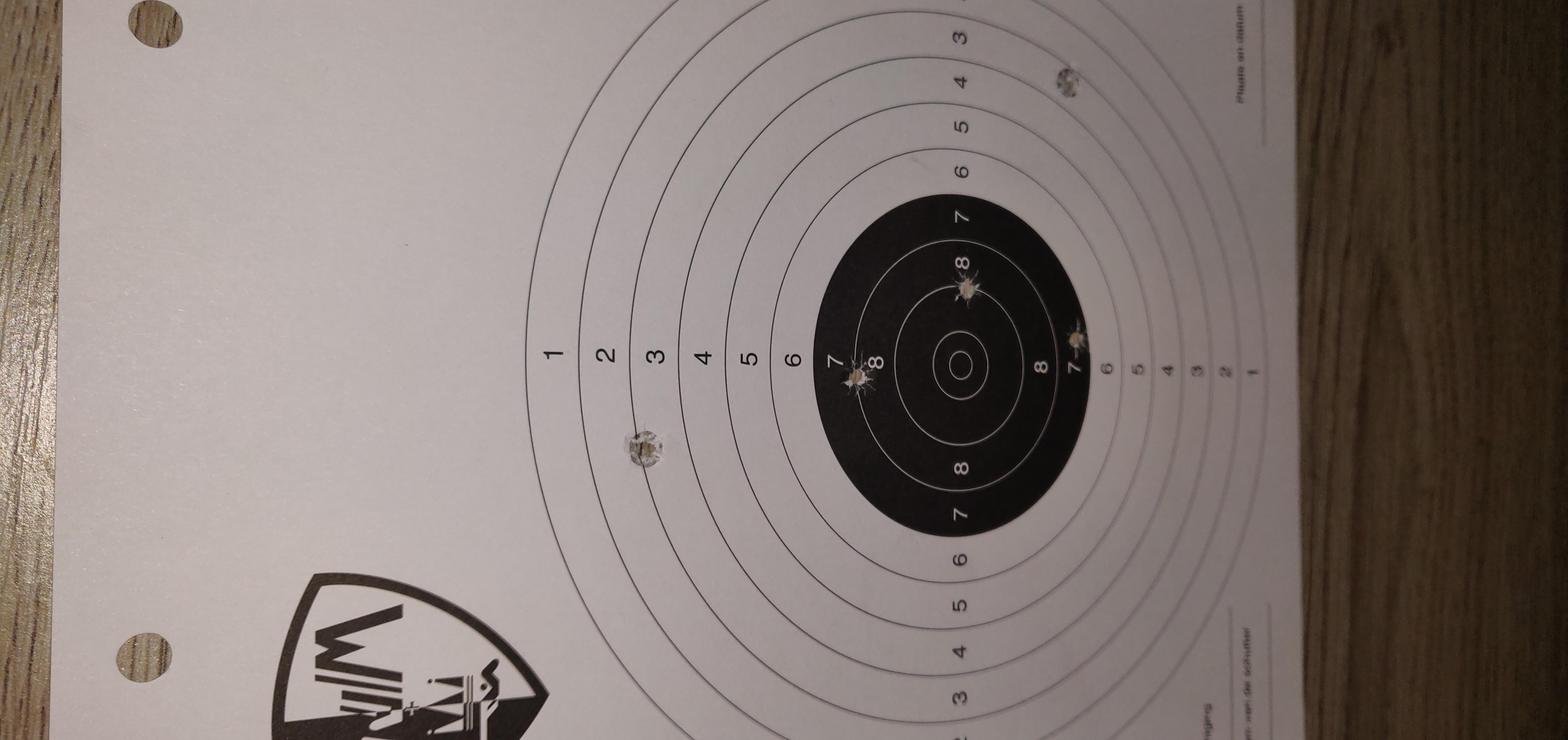hole: (570, 294, 666, 316), (709, 396, 819, 414), (918, 445, 996, 467), (812, 499, 890, 516), (1360, 497, 1434, 512)
